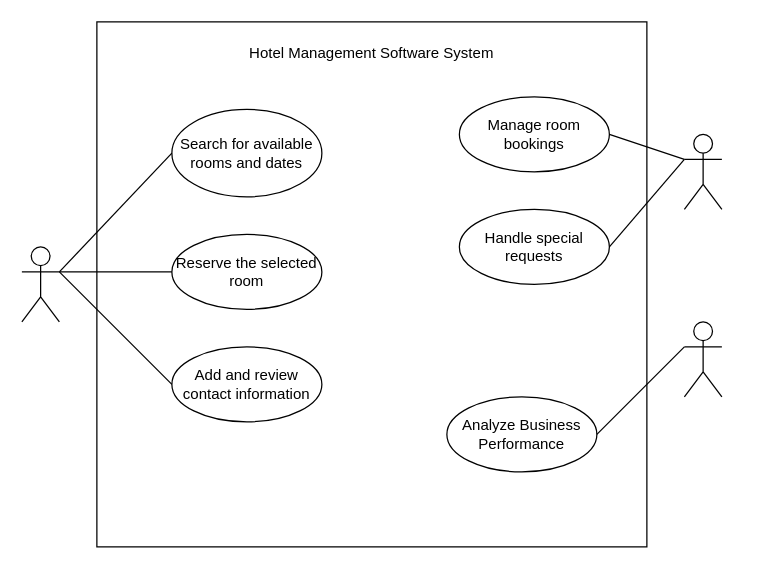
This 758x569 diagram has some shape labels left out. The shapes that lost their labels are listed below. From the top down, each one's box as (x1, y1, x2, y2) in pixels, then its label:
(683, 133, 722, 209): Employee
(21, 246, 59, 322): User
(683, 321, 722, 397): Manager
